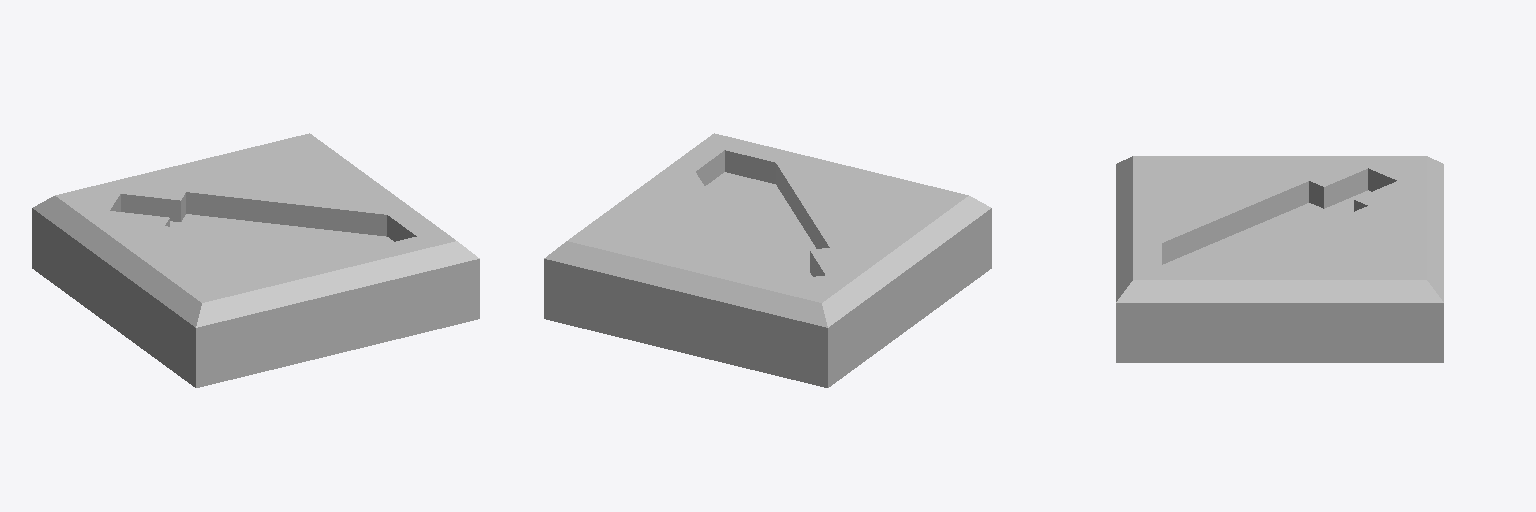
Rendered from Sword Mold 1.obj.
3 renders of one model, left to right at view 1: azimuth 30°, elevation 25°; view 2: azimuth 150°, elevation 25°; view 3: azimuth 270°, elevation 25°, orthographic.
Parts seen in each view (by area): view 1: Sword_Mold; view 2: Sword_Mold; view 3: Sword_Mold.
Part boxes in pixels (x1,y1,x2,y2): Sword_Mold: (32, 133, 479, 387); Sword_Mold: (544, 133, 991, 387); Sword_Mold: (1116, 156, 1443, 362).
Size of the model in its own units: 5.76 by 1.47 by 5.76.